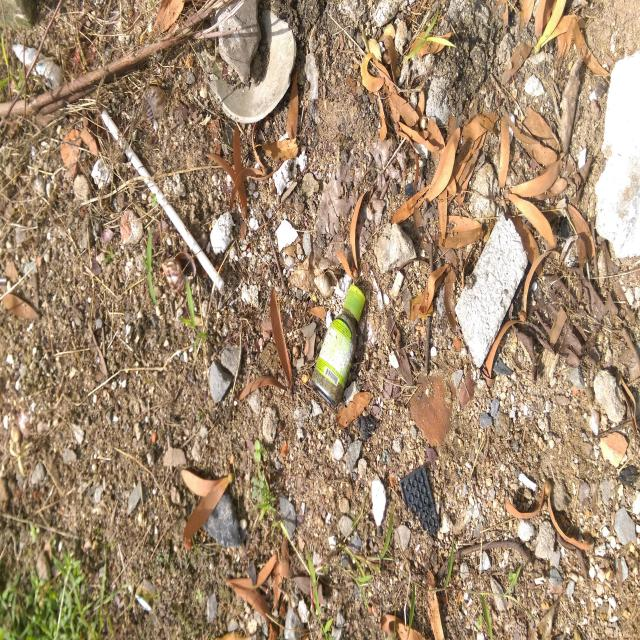litter: (101, 111, 224, 290), (311, 285, 366, 407), (400, 466, 440, 535), (12, 42, 62, 90), (390, 271, 404, 301)
